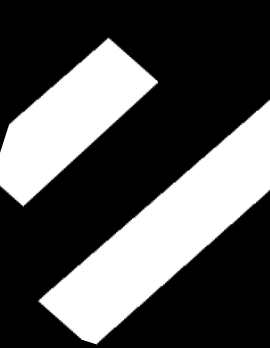parkingspot: (39, 100, 270, 344), (0, 38, 158, 207)
